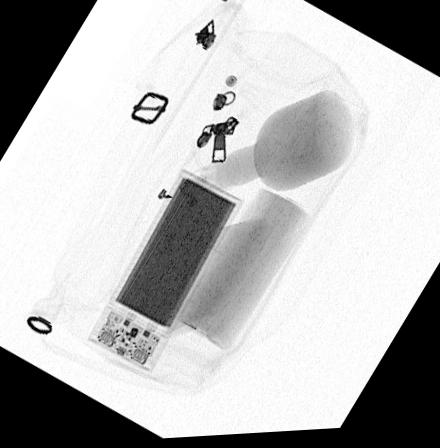Powerbank: (87, 169, 245, 373)
